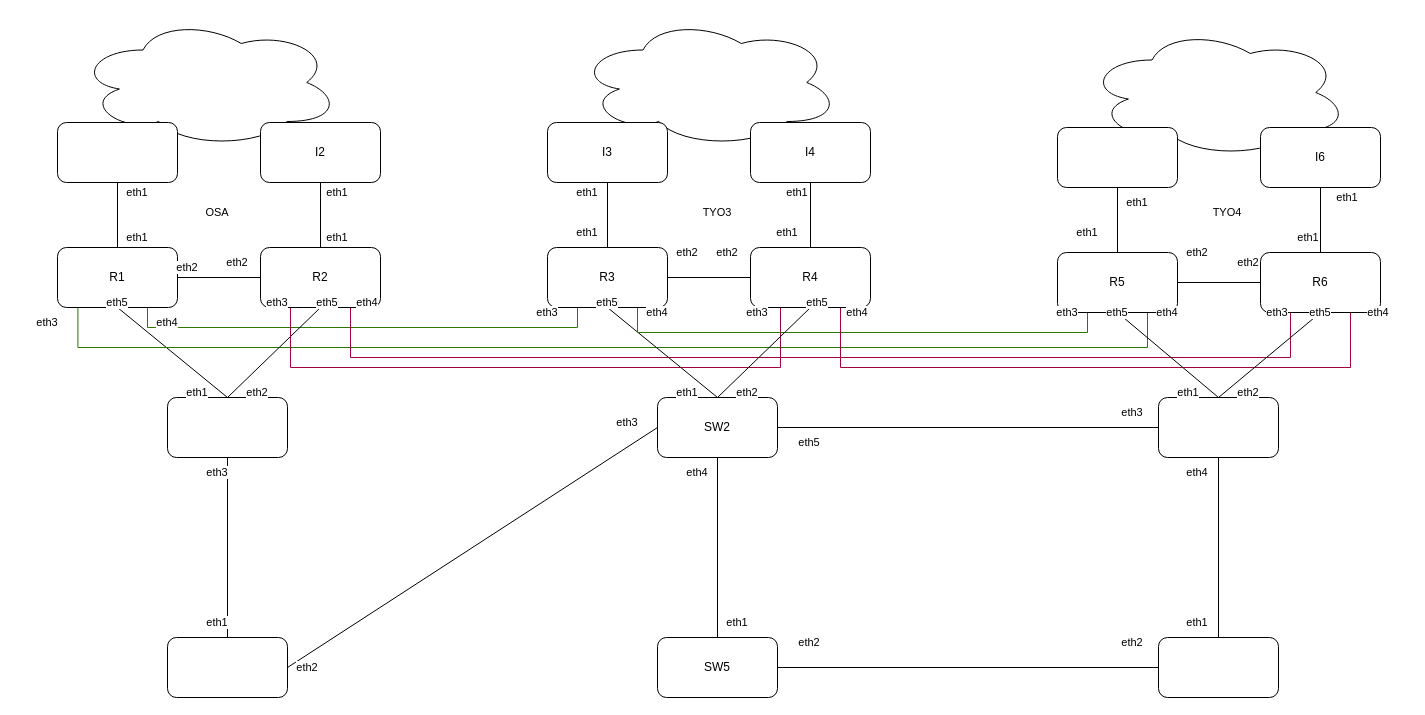
Some shapes in this 1425 by 715 pixel diagram are drawn without their labels. The shapes that lost their labels are listed below. From the top down, each one's centre as x and y in pixels, then its label:
pixel 117 152: I1
pixel 1117 157: I5
pixel 227 427: SW1
pixel 1218 427: SW3
pixel 227 667: SW4
pixel 1218 667: SW6
